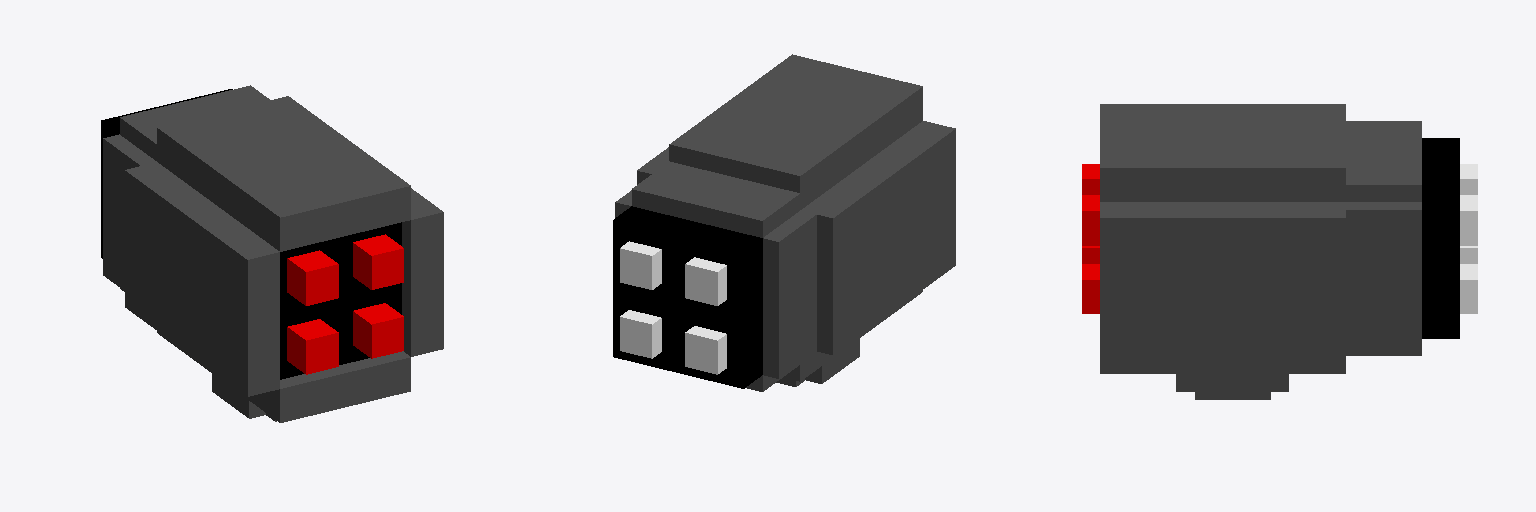
3 views of the same model, side by side, from view 1: azimuth 30°, elevation 25°; view 2: azimuth 150°, elevation 25°; view 3: azimuth 270°, elevation 25° (orthographic).
Parts seen in each view (by area): view 1: cube; view 2: cube; view 3: cube.
Boxes of the visible parts, x1,y1,x2,y2 form: cube: [101, 85, 443, 422]; cube: [613, 54, 955, 391]; cube: [1082, 104, 1477, 399].
Size of the model in its own units: 0.0469 by 0.0547 by 0.082.
Materials: 1 (1 with a texture image).